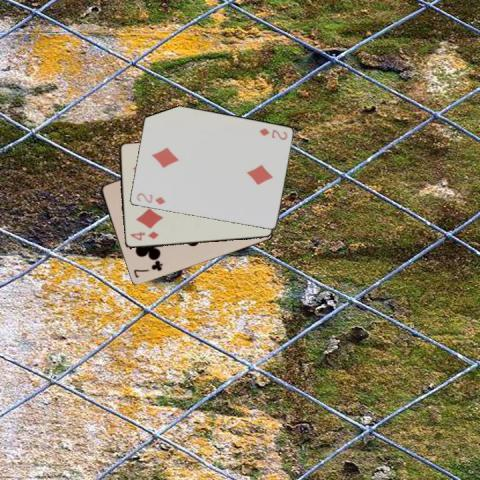2d: (133, 190, 167, 206), (256, 126, 289, 142)
4d: (127, 229, 160, 242)
7c: (131, 259, 164, 279)
